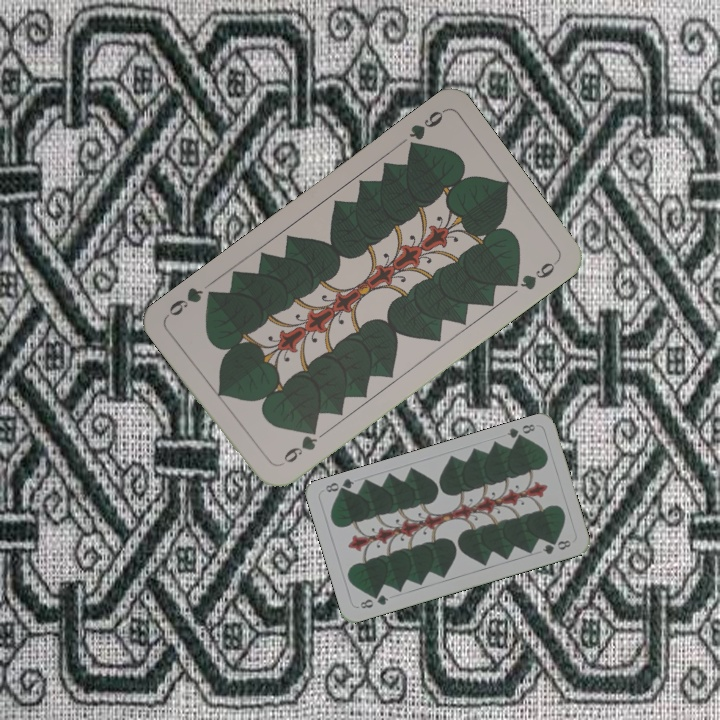G8: (503, 420, 538, 444), (356, 590, 391, 611)
G9: (403, 106, 447, 155), (274, 423, 320, 469)
